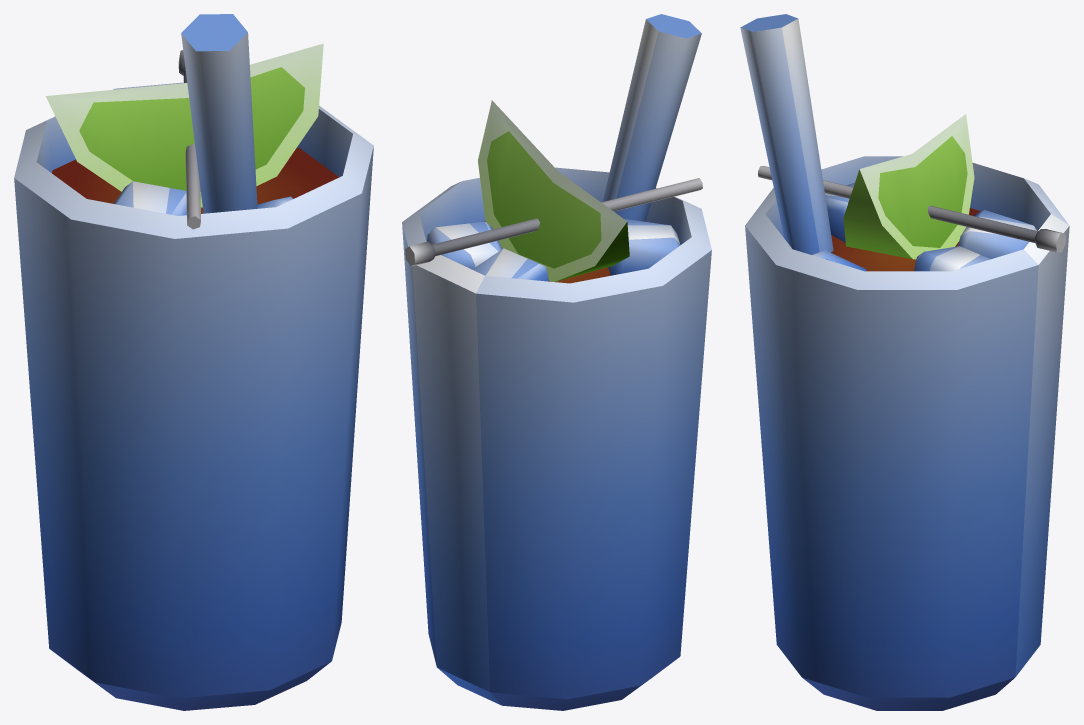
File: m_DarkAndStormy01.fbx
3 renders of one model, left to right at view 1: azimuth 30°, elevation 25°; view 2: azimuth 150°, elevation 25°; view 3: azimuth 270°, elevation 25°, orthographic. The views are drawn at different scales.
Parts seen in each view (by area): view 1: m_DarkAndStormy01; view 2: m_DarkAndStormy01; view 3: m_DarkAndStormy01.
Part boxes in pixels (bbox=[...]): m_DarkAndStormy01: bbox=[14, 14, 373, 710]; m_DarkAndStormy01: bbox=[402, 14, 711, 710]; m_DarkAndStormy01: bbox=[740, 14, 1069, 710].
Size of the model in its own units: 12.35 by 27.58 by 13.17.
